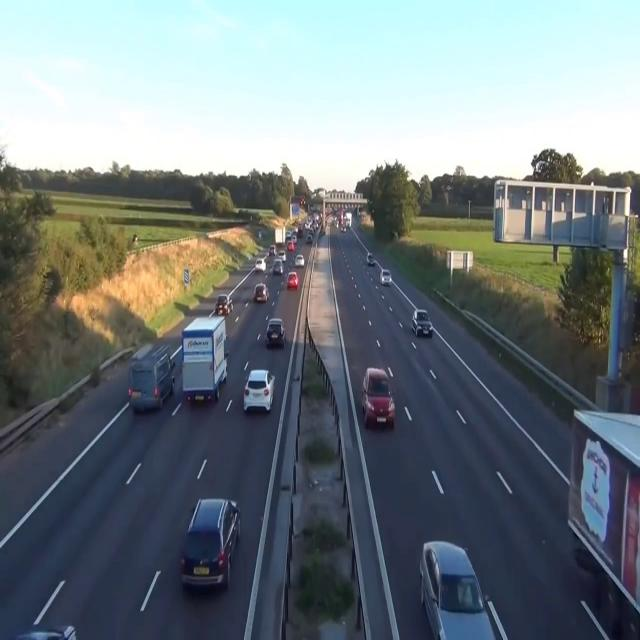belum terisi: (565, 373, 640, 640), (410, 526, 501, 640), (179, 488, 243, 588), (124, 329, 177, 416), (182, 307, 226, 407), (359, 358, 401, 436), (242, 351, 276, 428), (410, 304, 435, 344), (265, 317, 288, 348), (377, 262, 398, 295), (213, 292, 237, 320), (252, 276, 270, 308), (283, 266, 300, 298)
